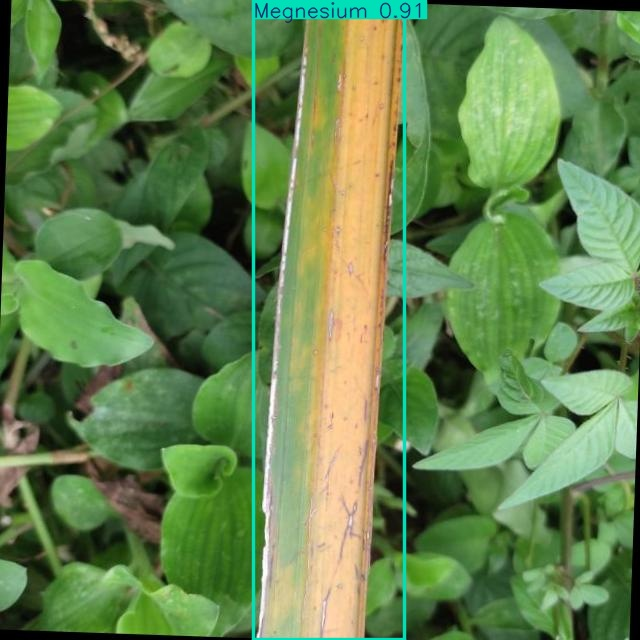Megnesium: (254, 1, 405, 640)
